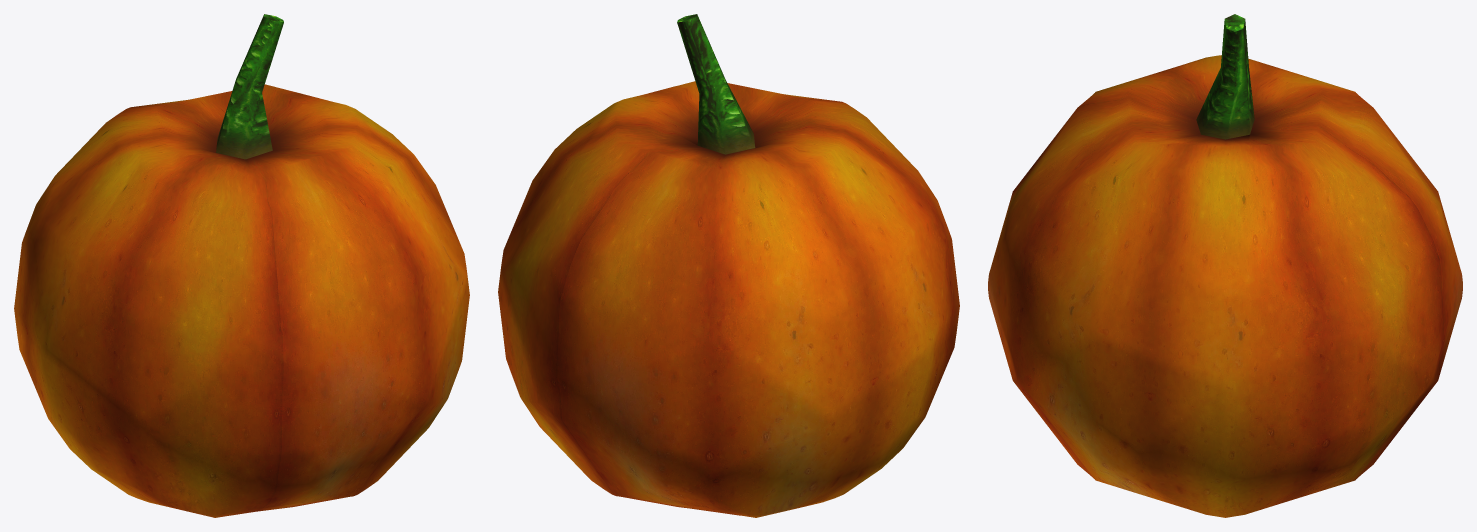
File: snow-ball-lod0.glb
3 renders of one model, left to right at view 1: azimuth 30°, elevation 25°; view 2: azimuth 150°, elevation 25°; view 3: azimuth 270°, elevation 25°, orthographic. The views are drawn at different scales.
Parts seen in each view (by area): view 1: boulders; view 2: boulders; view 3: boulders.
Part boxes in pixels (bbox=[...]): boulders: bbox=[14, 14, 469, 517]; boulders: bbox=[498, 14, 959, 517]; boulders: bbox=[988, 14, 1462, 517].
Size of the model in its own units: 5.41 by 6.14 by 5.41.
1 material, 1 textured.
